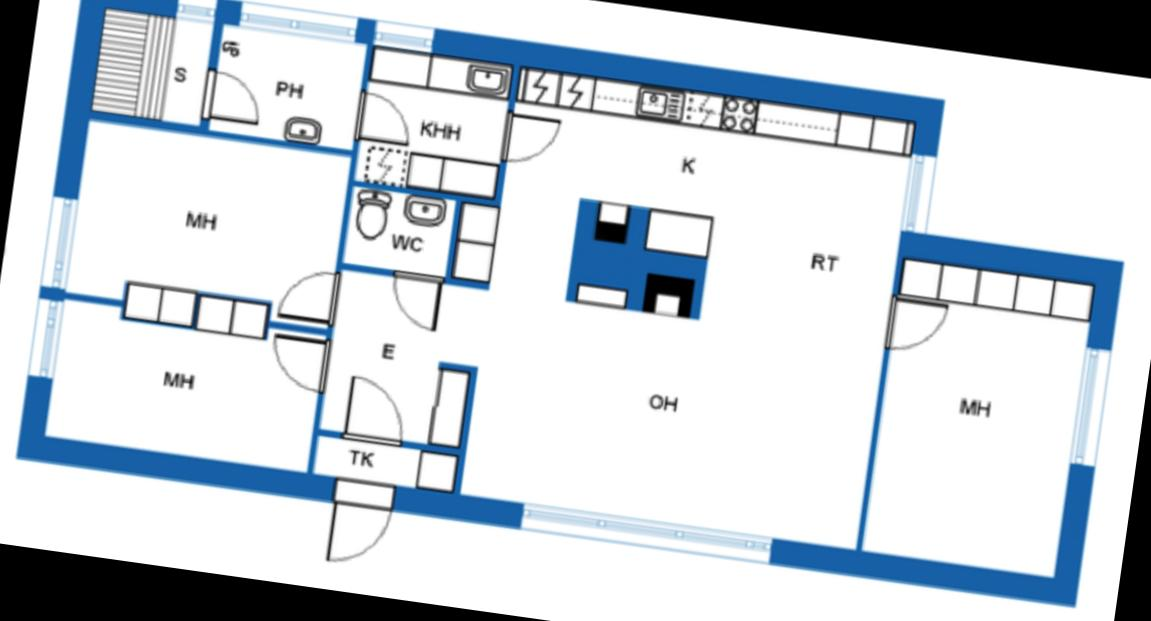door: (318, 473, 398, 570), (337, 370, 412, 450), (270, 260, 344, 329), (262, 327, 336, 395), (879, 292, 950, 360), (492, 105, 564, 170), (196, 66, 270, 128), (382, 265, 446, 334), (348, 88, 419, 150)
window: (504, 496, 780, 569), (1063, 337, 1116, 476), (227, 0, 366, 43), (34, 185, 84, 294), (21, 288, 68, 384), (895, 143, 942, 237), (363, 16, 442, 54), (165, 0, 225, 24)
